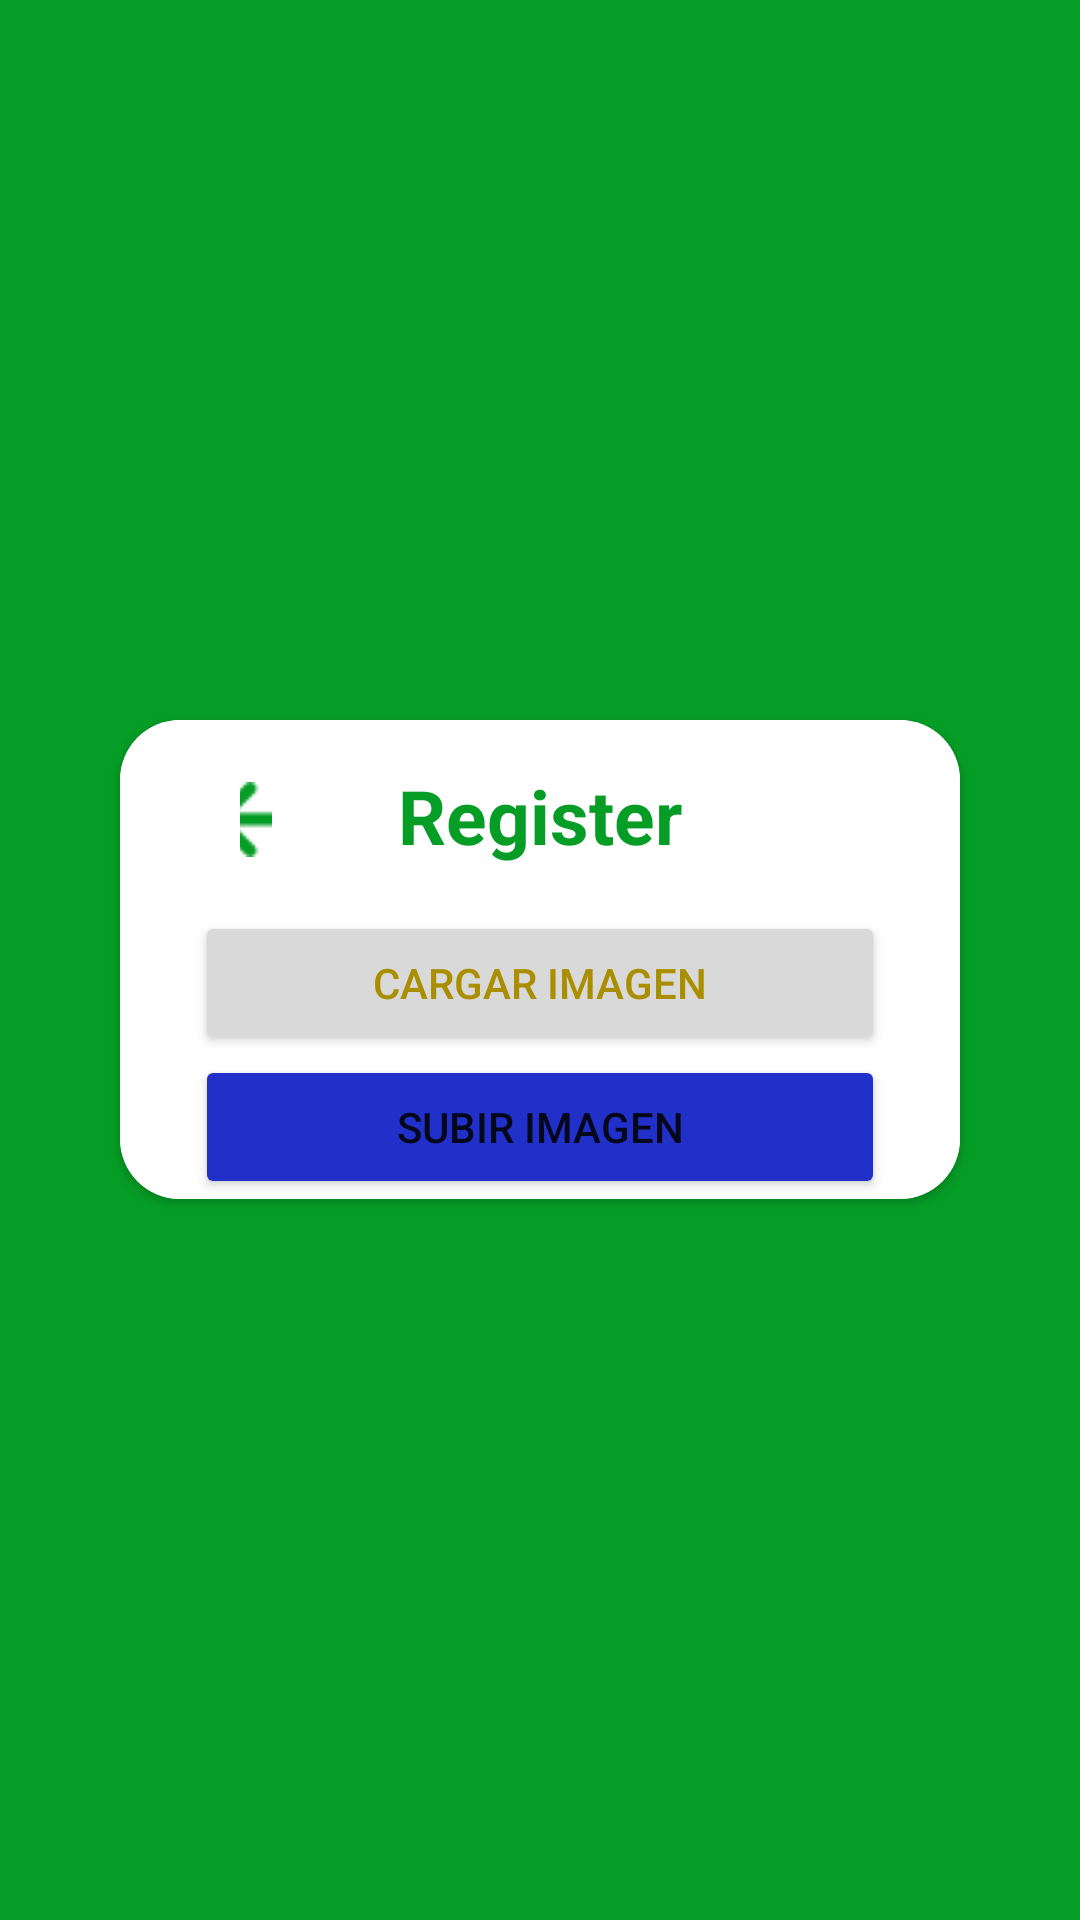

Icon bounding boxes for this 1080px×1920px phone screenshot, format (x1, y1, x2, y2):
vectorback: (240, 782, 272, 857)
